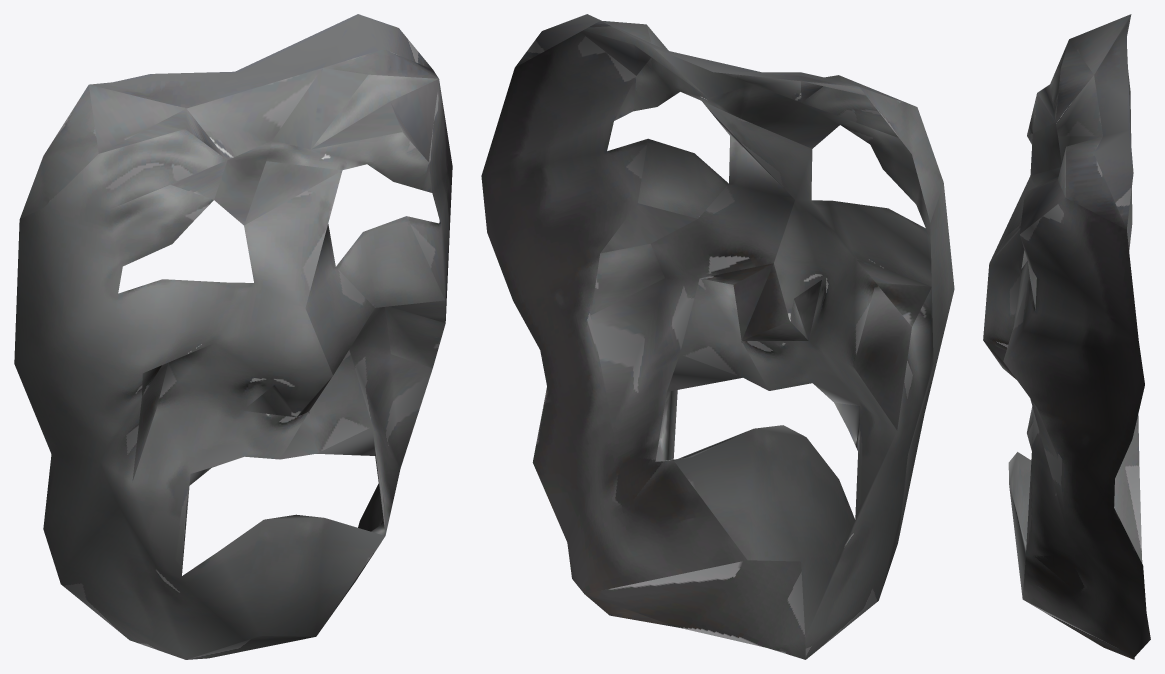
File: Tragedy.fbx
3 views of the same model, side by side, from view 1: azimuth 30°, elevation 25°; view 2: azimuth 150°, elevation 25°; view 3: azimuth 270°, elevation 25° (orthographic). The views are drawn at different scales.
Visible parts, largest first — view 1: TragedyMaskLOD1; view 2: TragedyMaskLOD1; view 3: TragedyMaskLOD1.
Part boxes in pixels (x1=…): TragedyMaskLOD1: x1=14, y1=14, x2=452, y2=659; TragedyMaskLOD1: x1=481, y1=14, x2=954, y2=659; TragedyMaskLOD1: x1=983, y1=14, x2=1150, y2=659.
Bounding box in the file's own units: 270 × 349 × 96.1.
